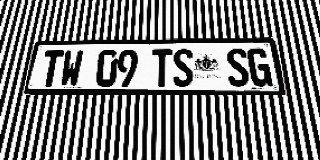0: (95, 49, 118, 87)
9: (116, 49, 138, 87)
G: (246, 48, 273, 86)
S: (225, 48, 250, 86), (173, 49, 194, 87)
T: (38, 50, 64, 87), (151, 49, 172, 87)
W: (59, 50, 84, 87)
